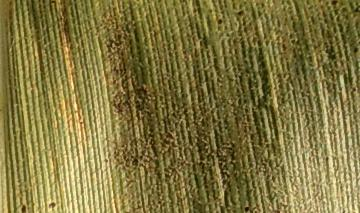tarspot: (18, 198, 30, 213), (234, 8, 249, 20), (212, 16, 226, 28), (47, 200, 59, 212), (239, 204, 255, 213), (351, 44, 360, 58)
